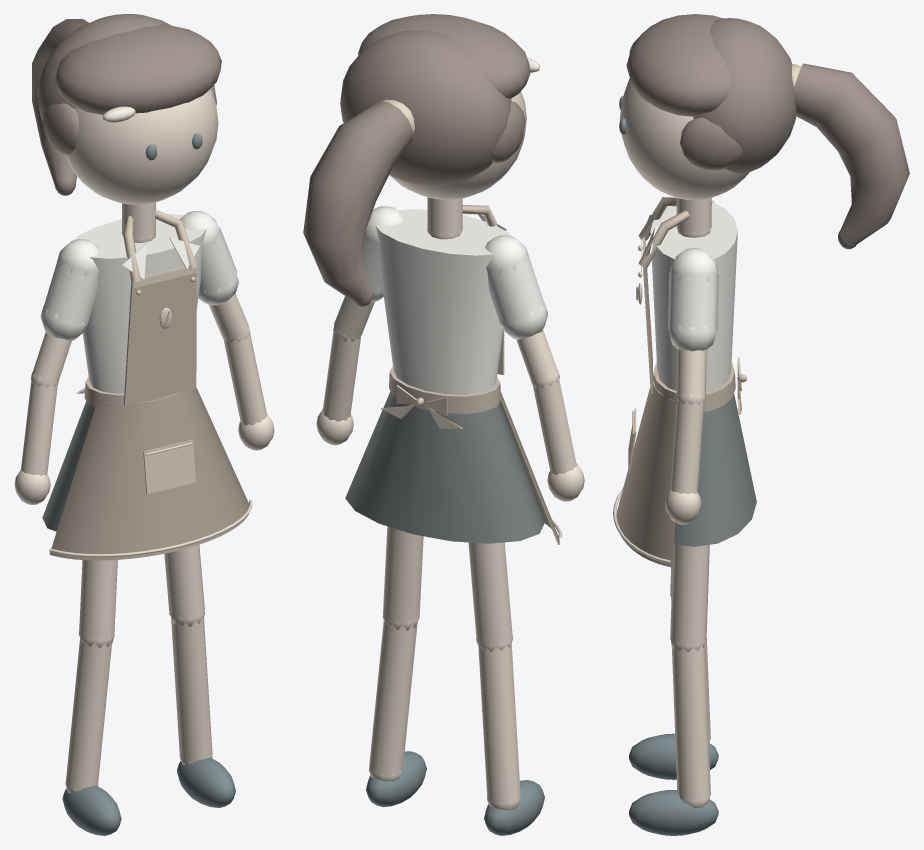
File: avatar-staff-female.glb
The picture shows the model from 3 angles, left to right: view 1: azimuth 30°, elevation 25°; view 2: azimuth 150°, elevation 25°; view 3: azimuth 270°, elevation 25°; orthographic projection. The views are drawn at different scales.
Visible parts, largest first — view 1: Cafe female apron; view 2: Cafe female apron; view 3: Cafe female apron.
Boxes of the visible parts, x1,y1,x2,y2 form: Cafe female apron: [14, 14, 274, 835]; Cafe female apron: [303, 14, 584, 835]; Cafe female apron: [613, 14, 909, 835].
Size of the model in its own units: 0.406 by 1.18 by 0.4072.
